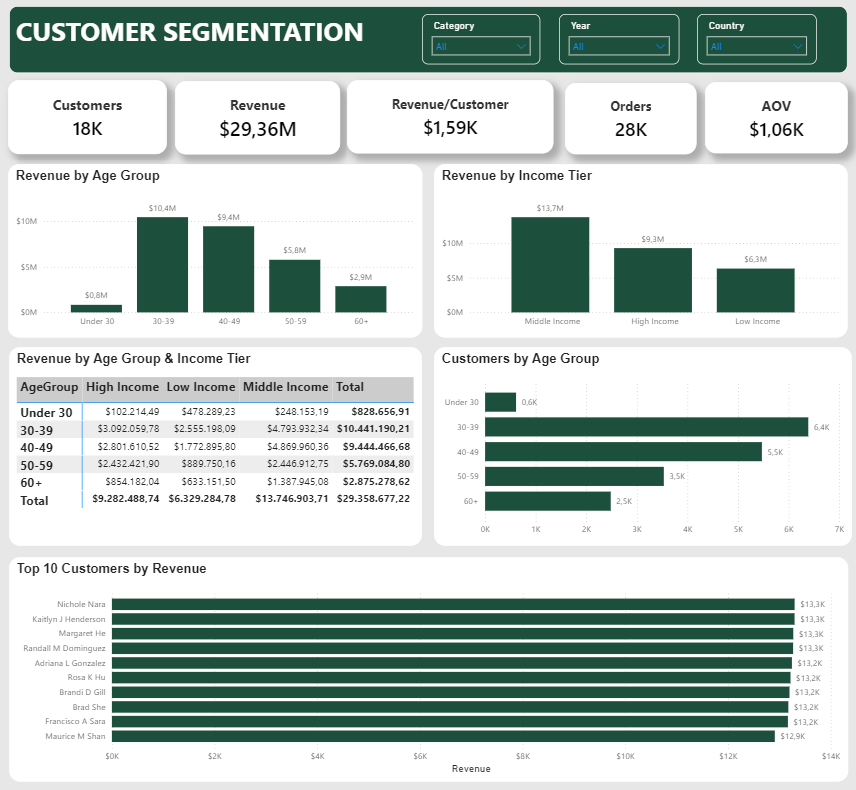

The page's visual inventory and layout, read from the dashboard file:
{"tool":"powerbi","page":{"name":"Customer Segmentation","canvas":[1400,1150],"ordinal":3},"visuals":[{"type":"textbox","box":[14,10,1198,96],"z":0},{"type":"slicer","fields":{"Values":["Dim_Date.Year"]},"box":[800,22,172,72],"z":1000},{"type":"slicer","fields":{"Values":["Dim_Product.Category"]},"box":[604,22,168.9,72.2],"z":2000},{"type":"slicer","fields":{"Values":["Dim_Territory.Country"]},"box":[997,22,171.1,72.2],"z":3000},{"type":"cardVisual","fields":{"Data":["_Measures.Total Customers"]},"box":[13,116,227,106],"z":4000},{"type":"cardVisual","fields":{"Data":["_Measures.Revenue"]},"box":[251,117,236,105],"z":5000},{"type":"cardVisual","fields":{"Data":["_Measures.Revenue per Customer"]},"box":[497,116,295,105],"z":6000},{"type":"cardVisual","fields":{"Data":["_Measures.Total Orders"]},"box":[809,120,188,102],"z":7000},{"type":"cardVisual","fields":{"Data":["_Measures.AOV"]},"box":[1008,119,204,102],"z":8000},{"type":"clusteredColumnChart","title":"Revenue by Age Group","fields":{"Category":["Dim_Customer.AgeGroup"],"Y":["_Measures.Revenue"]},"box":[13,235,592,248],"z":9000},{"type":"clusteredColumnChart","title":"Revenue by Income Tier","fields":{"Category":["Dim_Customer.IncomeTier"],"Y":["_Measures.Revenue"]},"box":[621,235,591,248],"z":10000},{"type":"clusteredBarChart","title":"Customers by Age Group","fields":{"Category":["Dim_Customer.AgeGroup"],"Y":["_Measures.Total Customers"]},"box":[621,497,597,284],"z":11000},{"type":"pivotTable","title":"Revenue by Age Group & Income Tier","fields":{"Columns":["Dim_Customer.IncomeTier"],"Rows":["Dim_Customer.AgeGroup"],"Values":["_Measures.Revenue"]},"box":[14,497,590,284],"z":12000},{"type":"clusteredBarChart","title":"Top 10 Customers by Revenue","fields":{"Category":["Dim_Customer.CustomerFullName"],"Y":["_Measures.Revenue"]},"box":[14,797,1199,321],"z":13000}]}

Visuals, with their boxes on the page's 1400x1150 design canvas (x1, y1, x2, y2). These are canvas units, not pixel positions in the 856x790 screenshot, which may show the page scaled, cropped or inside an application window:
textbox: bbox=(14, 10, 1212, 106)
slicer - Dim_Date.Year: bbox=(800, 22, 972, 94)
slicer - Dim_Product.Category: bbox=(604, 22, 773, 94)
slicer - Dim_Territory.Country: bbox=(997, 22, 1168, 94)
cardVisual - _Measures.Total Customers: bbox=(13, 116, 240, 222)
cardVisual - _Measures.Revenue: bbox=(251, 117, 487, 222)
cardVisual - _Measures.Revenue per Customer: bbox=(497, 116, 792, 221)
cardVisual - _Measures.Total Orders: bbox=(809, 120, 997, 222)
cardVisual - _Measures.AOV: bbox=(1008, 119, 1212, 221)
"Revenue by Age Group" clusteredColumnChart: bbox=(13, 235, 605, 483)
"Revenue by Income Tier" clusteredColumnChart: bbox=(621, 235, 1212, 483)
"Customers by Age Group" clusteredBarChart: bbox=(621, 497, 1218, 781)
"Revenue by Age Group & Income Tier" pivotTable: bbox=(14, 497, 604, 781)
"Top 10 Customers by Revenue" clusteredBarChart: bbox=(14, 797, 1213, 1118)
